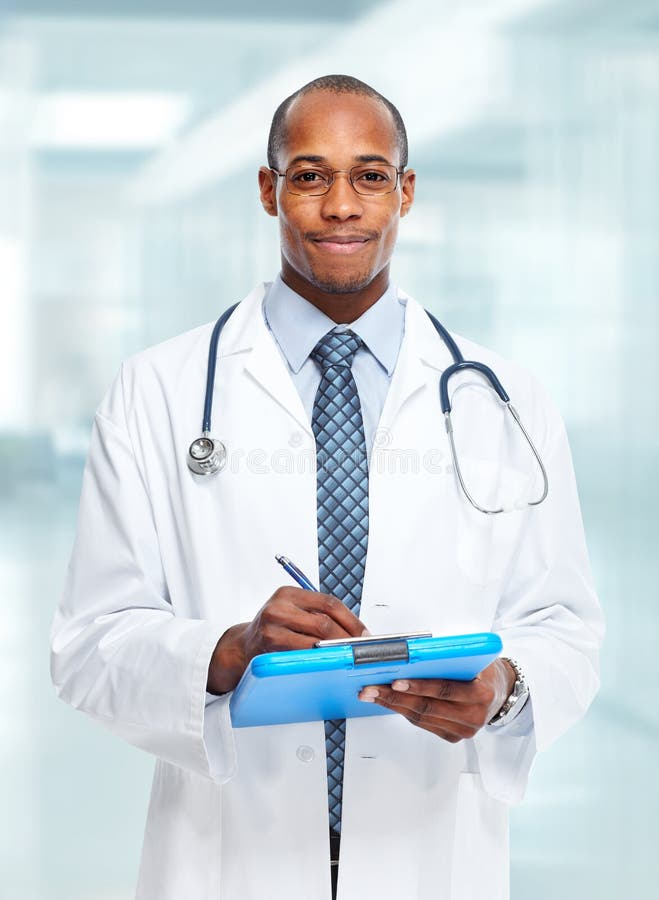doctor: (43, 57, 597, 898)
